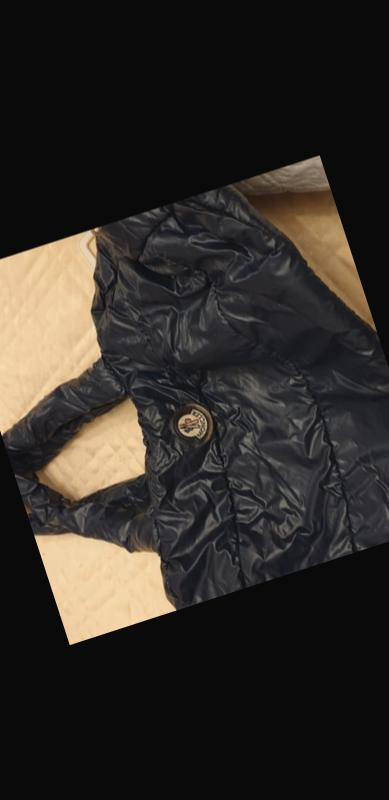MONCLER: (166, 398, 218, 453)
